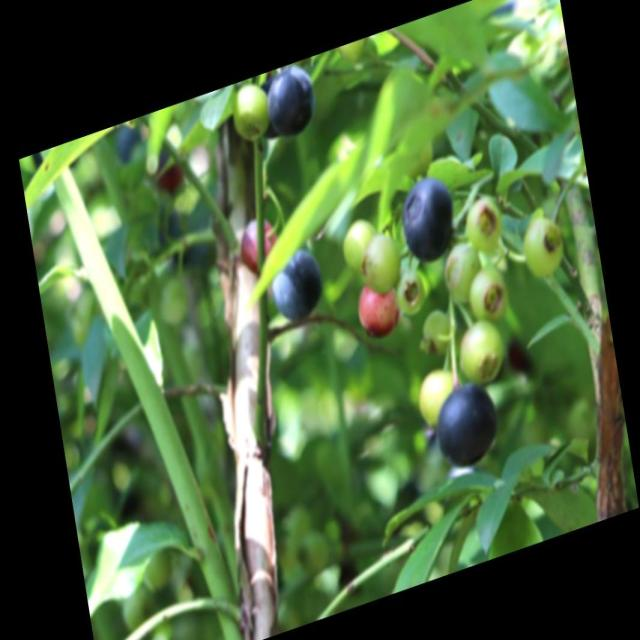blueberry: (428, 370, 503, 473), (393, 168, 458, 270), (267, 243, 329, 328), (263, 61, 323, 142)
blueberry-halfripe: (354, 274, 401, 341), (236, 211, 280, 274)
blueberry-unripe: (454, 317, 507, 388), (227, 80, 273, 151), (518, 212, 565, 280), (361, 227, 403, 296), (439, 239, 481, 301), (461, 193, 504, 252), (468, 261, 509, 322), (339, 212, 381, 271), (415, 364, 460, 417), (391, 266, 427, 321), (421, 308, 452, 356)
